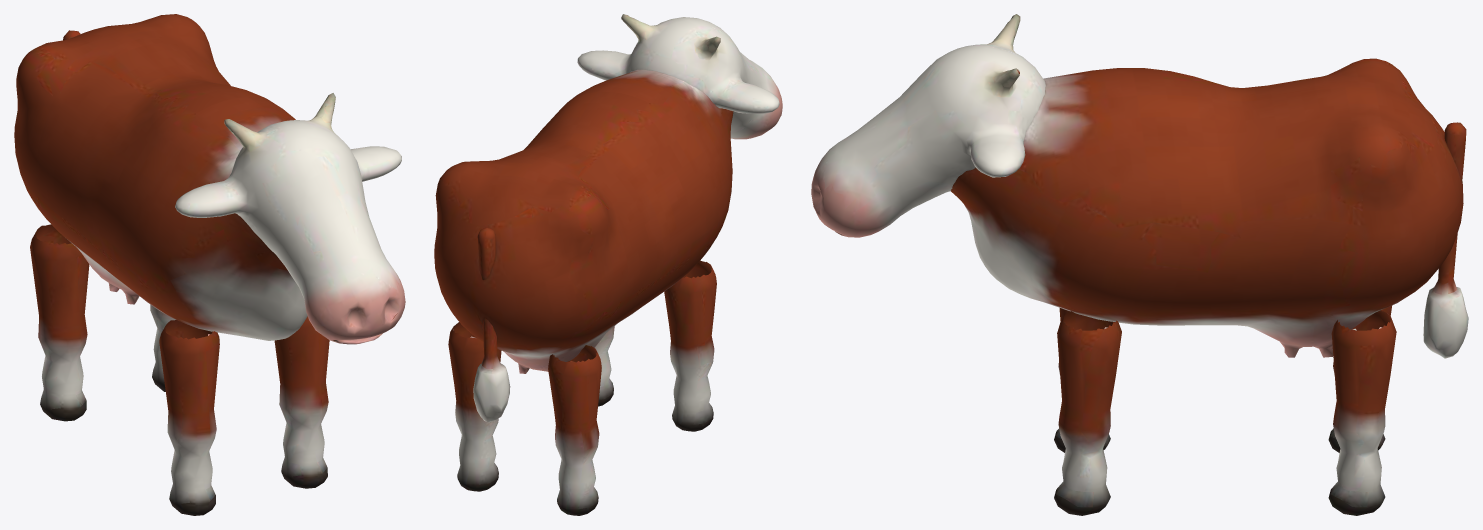
File: animal_hereford.glb
The picture shows the model from 3 angles, left to right: view 1: azimuth 30°, elevation 25°; view 2: azimuth 150°, elevation 25°; view 3: azimuth 270°, elevation 25°; orthographic projection. The views are drawn at different scales.
Parts seen in each view (by area): view 1: animal_hereford, head, leg0, leg2, leg1, leg3; view 2: animal_hereford, head, leg2, leg0, leg3, tail, leg1; view 3: animal_hereford, head, leg1, leg3, tail.
Boxes of the visible parts, x1=… form: animal_hereford: x1=14, y1=14, x2=307, y2=340; head: x1=175, y1=93, x2=405, y2=344; leg0: x1=159, y1=320, x2=219, y2=515; leg2: x1=30, y1=224, x2=89, y2=421; leg1: x1=274, y1=316, x2=329, y2=488; leg3: x1=150, y1=304, x2=175, y2=391; animal_hereford: x1=434, y1=69, x2=733, y2=373; head: x1=577, y1=14, x2=782, y2=139; leg2: x1=548, y1=345, x2=601, y2=515; leg0: x1=664, y1=260, x2=716, y2=431; leg3: x1=448, y1=322, x2=501, y2=491; tail: x1=473, y1=228, x2=510, y2=422; leg1: x1=595, y1=326, x2=614, y2=406; animal_hereford: x1=951, y1=58, x2=1463, y2=357; head: x1=811, y1=14, x2=1045, y2=237; leg1: x1=1054, y1=311, x2=1121, y2=515; leg3: x1=1328, y1=310, x2=1396, y2=515; tail: x1=1423, y1=122, x2=1468, y2=358.
Bounding box in the file's own units: 0.2992 × 0.5329 × 0.7183.
1 material, 1 textured.
